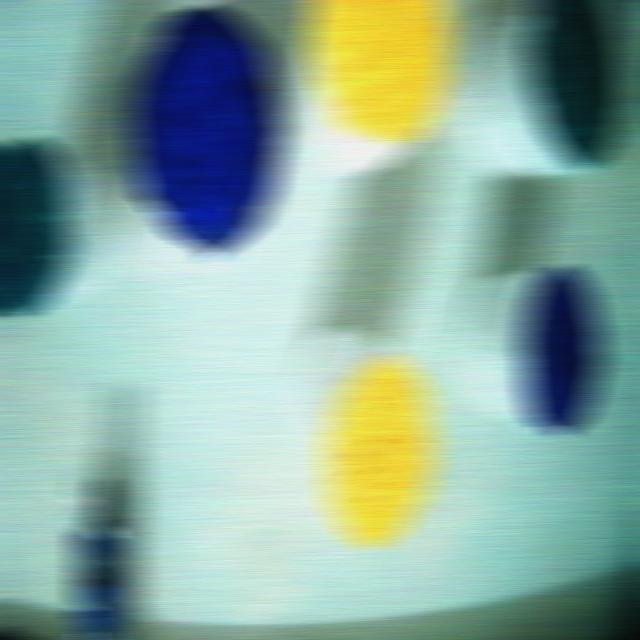blue: (127, 6, 286, 259), (526, 265, 603, 435)
green: (525, 0, 626, 167), (0, 136, 73, 317)
yellow: (321, 355, 436, 548), (306, 0, 453, 143)
